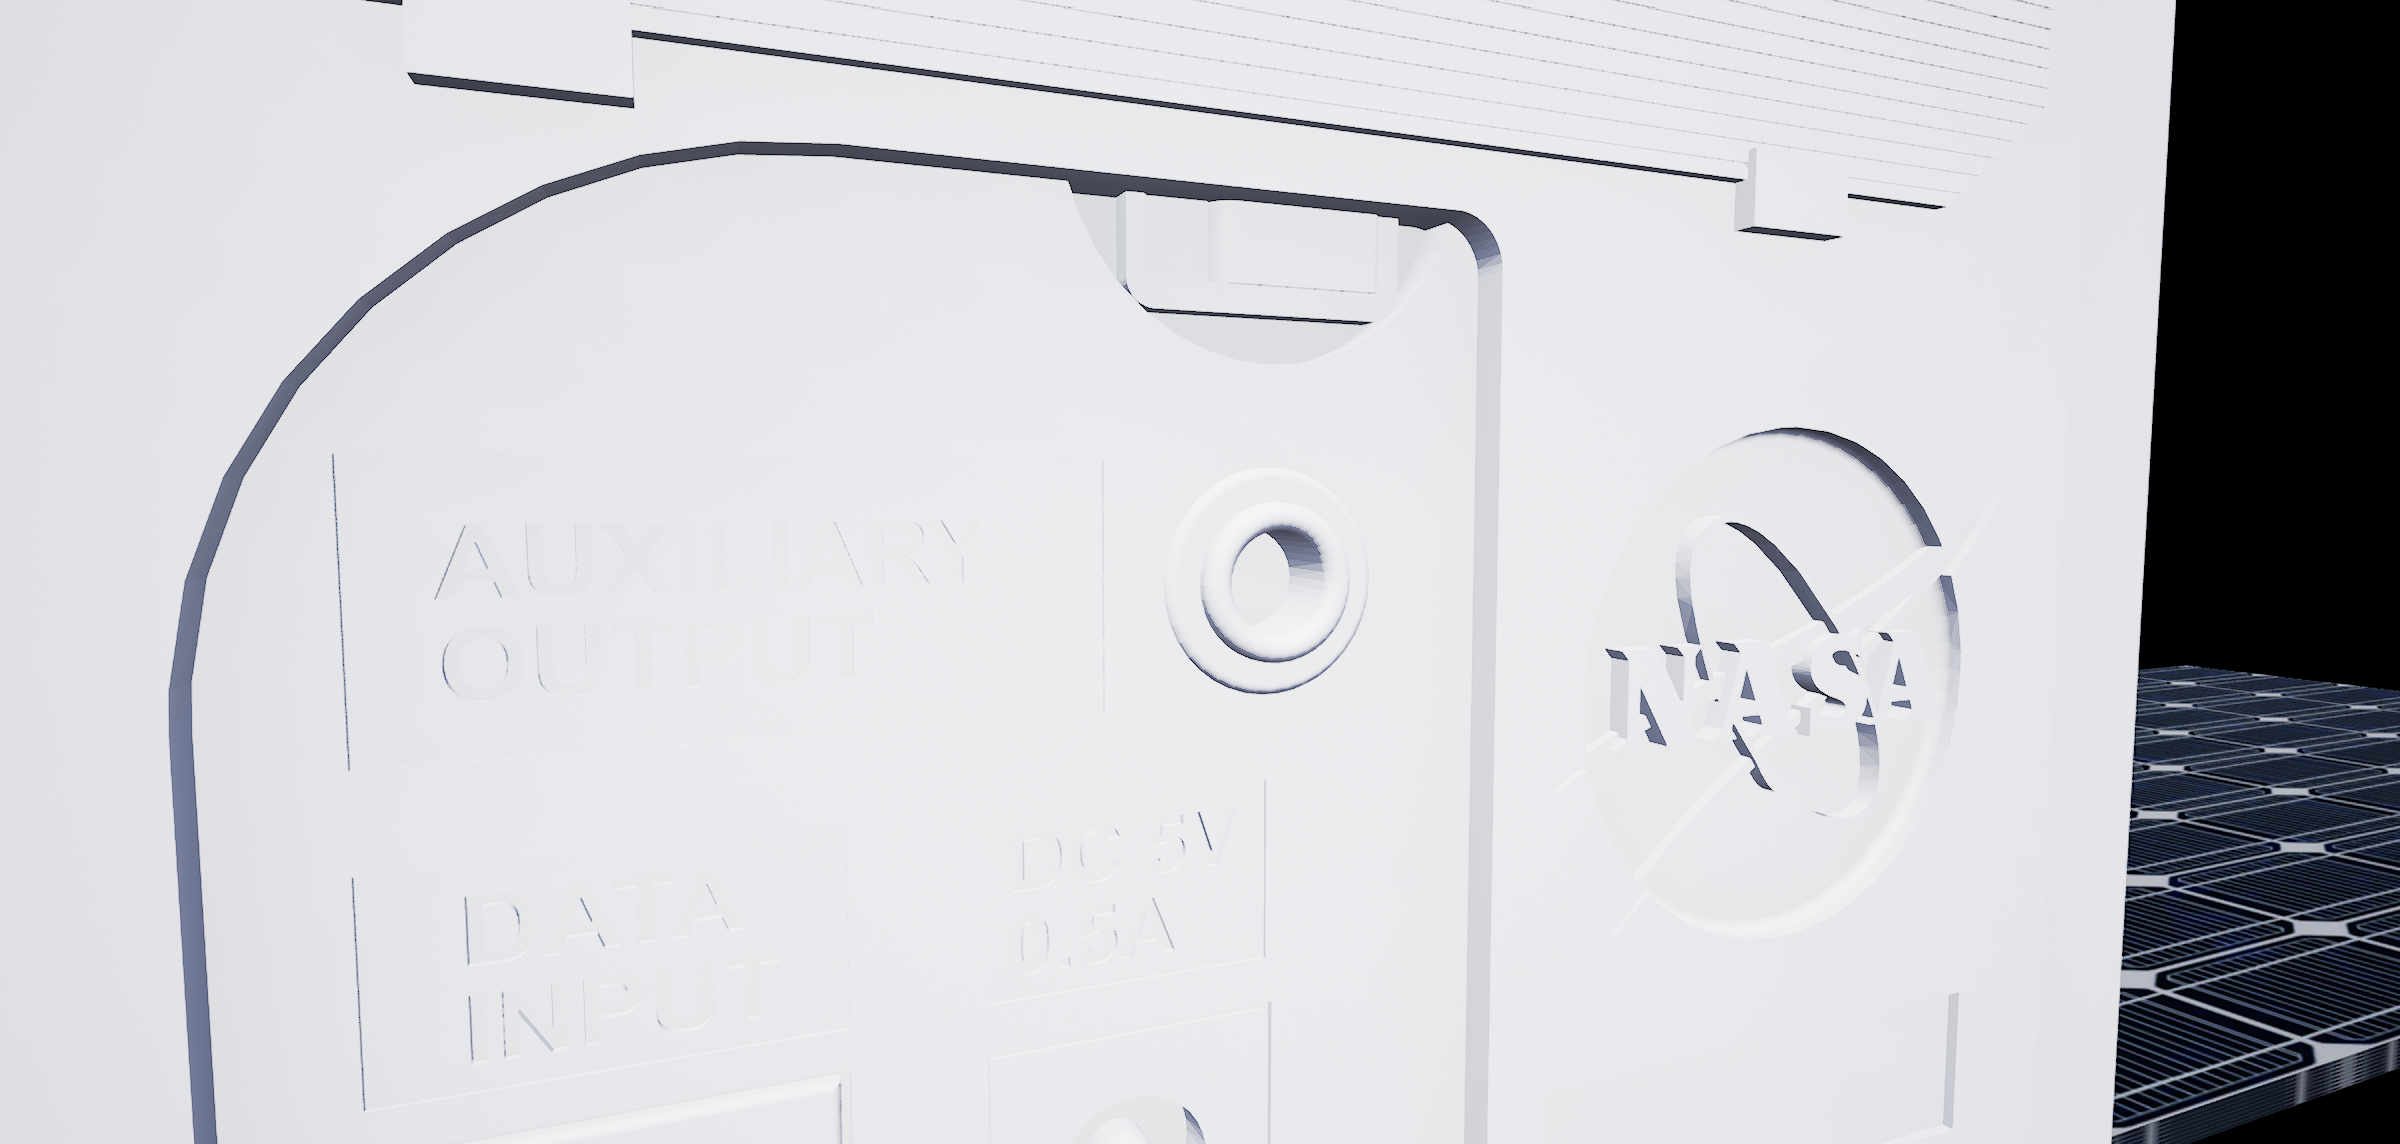aux: (1157, 458, 1384, 701)
dc: (1050, 1081, 1220, 1144)
